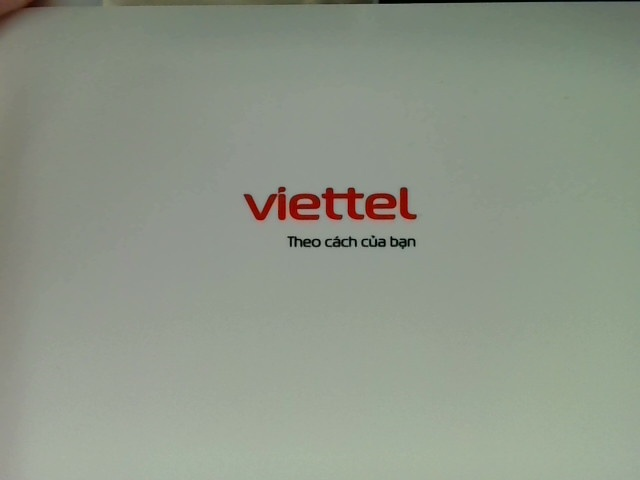AY_Viettel: (237, 186, 436, 254)
